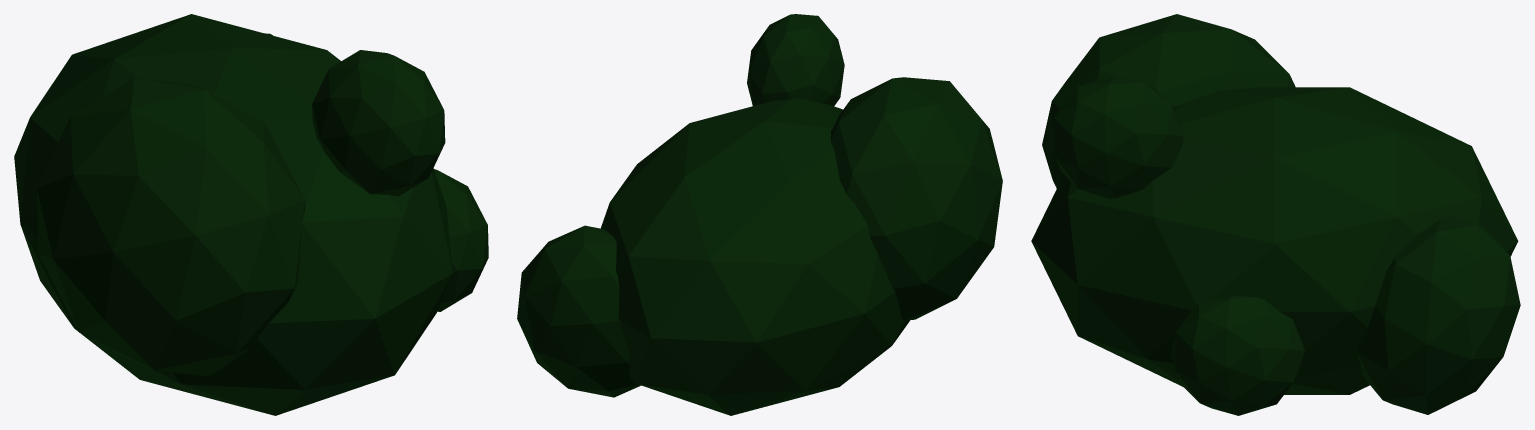
File: bush.obj
3 renders of one model, left to right at view 1: azimuth 30°, elevation 25°; view 2: azimuth 150°, elevation 25°; view 3: azimuth 270°, elevation 25°, orthographic. The views are drawn at different scales.
Parts seen in each view (by area): view 1: Icosphere; view 2: Icosphere; view 3: Icosphere.
Boxes of the visible parts, left/top/right/bottom form: Icosphere: left=14, top=14, right=488, bottom=415; Icosphere: left=517, top=14, right=1002, bottom=415; Icosphere: left=1031, top=14, right=1520, bottom=415.
Bounding box in the file's own units: 3.47 × 2.85 × 3.87.
